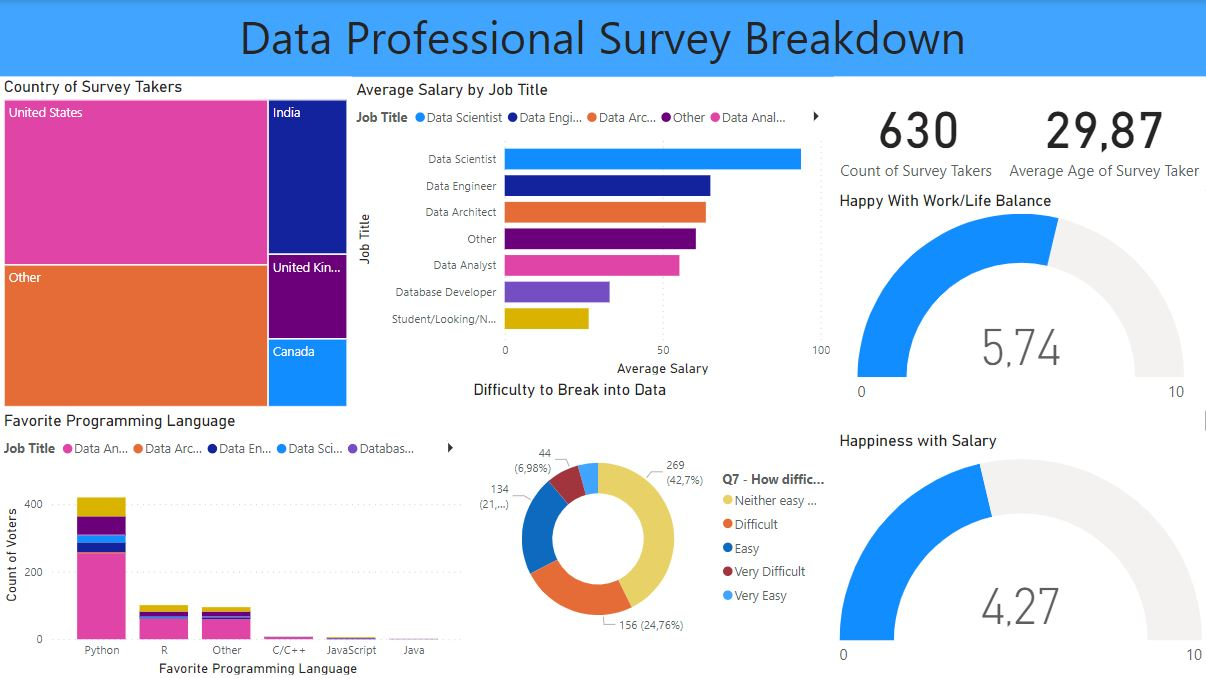

The dashboard page shown, as its layout file describes it:
{"tool":"powerbi","page":{"name":"Page 1","canvas":[1280,720],"ordinal":0},"visuals":[{"type":"textbox","box":[0,0,1279.5,81.1],"z":0},{"type":"card","fields":{"Values":["Count(Data Professional Survey.Unique ID)"]},"box":[885.3,81.1,176.4,120.8],"z":1},{"type":"card","fields":{"Values":["Avg(Data Professional Survey.Q10 - Current Age)"]},"box":[1061.7,81.1,217.7,120.8],"z":2},{"type":"barChart","title":"Average Salary by Job Title","fields":{"Category":["Data Professional Survey.Q1 - Which Title Best Fits your Current Role?.1"],"Y":["Avg(Data Professional Survey.Average Salary)"],"Series":["Data Professional Survey.Q1 - Which Title Best Fits your Current Role?.1"]},"box":[373.5,84.2,511.8,317.9],"z":3},{"type":"columnChart","title":"Favorite Programming Language","fields":{"Category":["Data Professional Survey.Q5 - Favorite Programming Language.1"],"Y":["CountNonNull(Data Professional Survey.Unique ID)"],"Series":["Data Professional Survey.Q1 - Which Title Best Fits your Current Role?.1"]},"box":[0,435.5,497.5,284.5],"z":4},{"type":"treemap","title":"Country of Survey Takers","fields":{"Group":["Data Professional Survey.Q11 - Which Country do you live in?.1"],"Values":["CountNonNull(Data Professional Survey.Q11 - Which Country do you live in?.1)"]},"box":[0,81.1,373.5,354.4],"z":5},{"type":"gauge","title":"Happiness with Salary","fields":{"Y":["Avg(Data Professional Survey.Q6 - How Happy are you in your Current Position with the following? (Salary))"],"MinValue":["Min(Data Professional Survey.Q6 - How Happy are you in your Current Position with the following? (Salary))"],"MaxValue":["Max(Data Professional Survey.Q6 - How Happy are you in your Current Position with the following? (Salary))"]},"box":[885.3,456.2,394.2,263.8],"z":6},{"type":"gauge","title":"Happy With Work/Life Balance","fields":{"Y":["Avg(Data Professional Survey.Q6 - How Happy are you in your Current Position with the following? (Work/Life Balance))"],"MinValue":["Min(Data Professional Survey.Q6 - How Happy are you in your Current Position with the following? (Work/Life Balance))"],"MaxValue":["Max(Data Professional Survey.Q6 - How Happy are you in your Current Position with the following? (Work/Life Balance))"]},"box":[885.3,201.9,394.2,233.6],"z":7},{"type":"donutChart","title":"Difficulty to Break into Data","fields":{"Category":["Data Professional Survey.Q7 - How difficult was it for you to break into Data?"],"Y":["CountNonNull(Data Professional Survey.Average Salary)"]},"box":[497.5,402.1,387.8,317.9],"z":8}]}

Visuals, with their boxes in screenshot pixels (x1, y1, x2, y2), scaled from the page's 1280x720 canvas onto the 1206x678 screenshot:
textbox: <bbox>0, 0, 1205, 76</bbox>
card - Count(Data Professional Survey.Unique ID): <bbox>834, 76, 1000, 190</bbox>
card - Avg(Data Professional Survey.Q10 - Current Age): <bbox>1000, 76, 1205, 190</bbox>
"Average Salary by Job Title" barChart: <bbox>352, 79, 834, 379</bbox>
"Favorite Programming Language" columnChart: <bbox>0, 410, 469, 677</bbox>
"Country of Survey Takers" treemap: <bbox>0, 76, 352, 410</bbox>
"Happiness with Salary" gauge: <bbox>834, 430, 1205, 677</bbox>
"Happy With Work/Life Balance" gauge: <bbox>834, 190, 1205, 410</bbox>
"Difficulty to Break into Data" donutChart: <bbox>469, 379, 834, 677</bbox>
